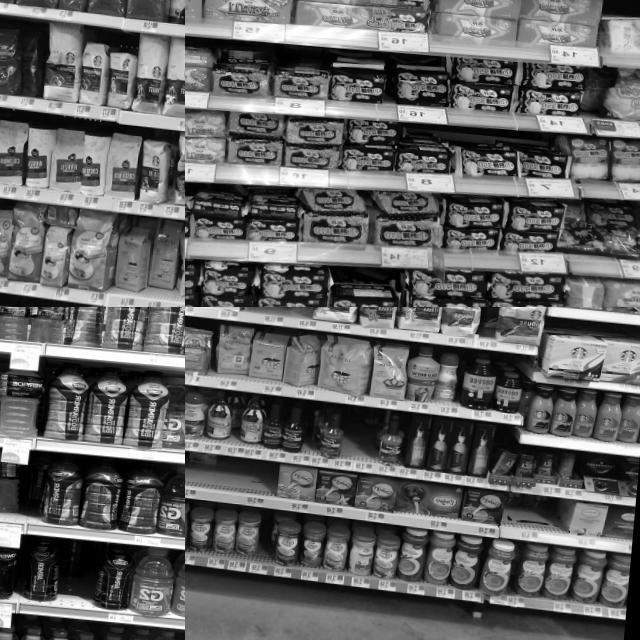empty: (215, 458, 277, 506), (341, 425, 375, 471), (185, 463, 214, 499), (247, 307, 290, 325)
